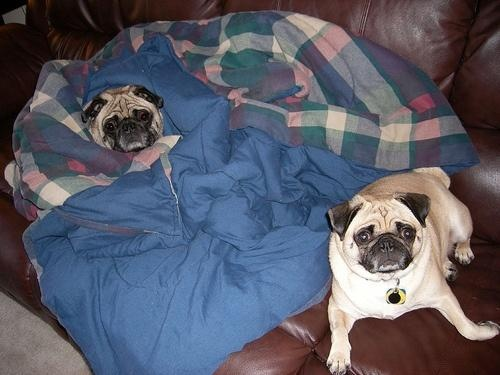dog: (325, 167, 500, 375), (82, 86, 165, 153)
